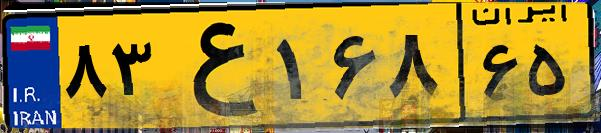1: (270, 28, 330, 110)
3: (110, 28, 158, 98)
5: (525, 38, 570, 115)
6: (330, 28, 385, 110), (475, 38, 525, 113)
8: (385, 28, 445, 110), (57, 26, 110, 100)
ع: (158, 12, 270, 120)
